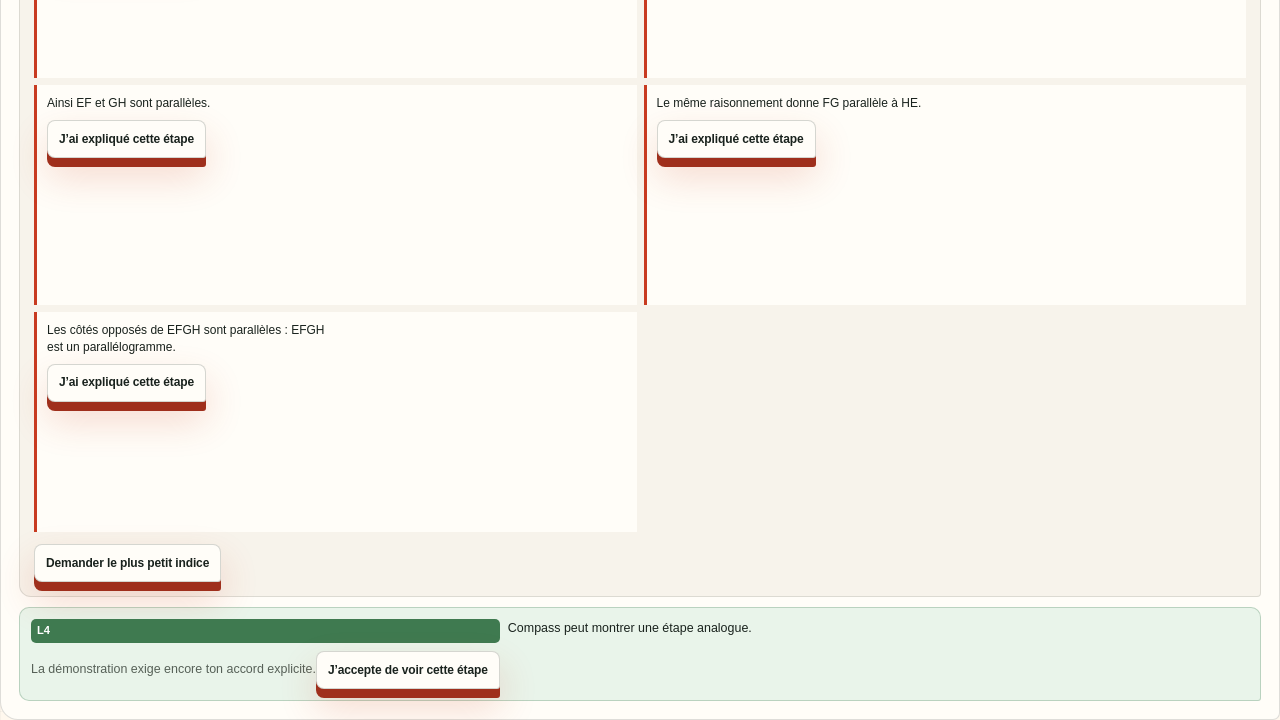
GeometryInvestigationPanel › requires an explicit visible confirmation before a level-four demonstration
The width and height of the screenshot is (1280, 720).
(page scrolled)
Click the button "J’accepte de voir cette étape": (408, 670) [316,651,500,689]
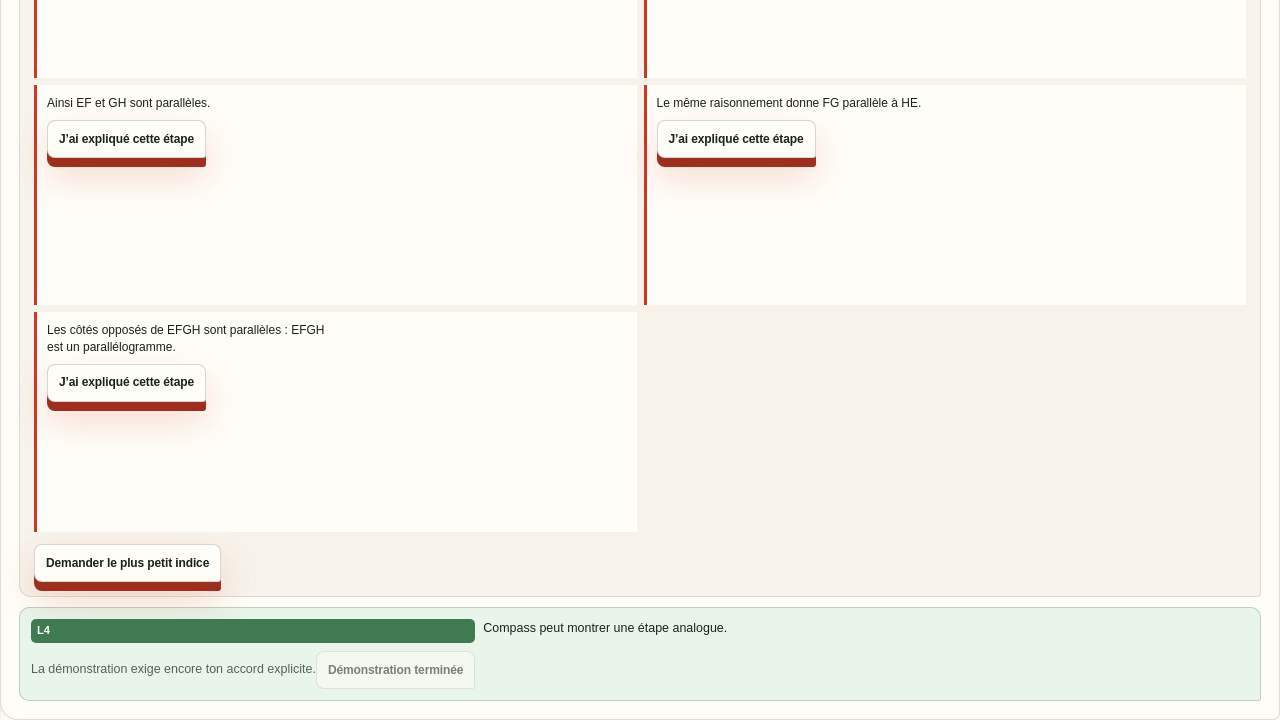
Now the button "Démonstration terminée" is disabled, box [316,651,475,689]
